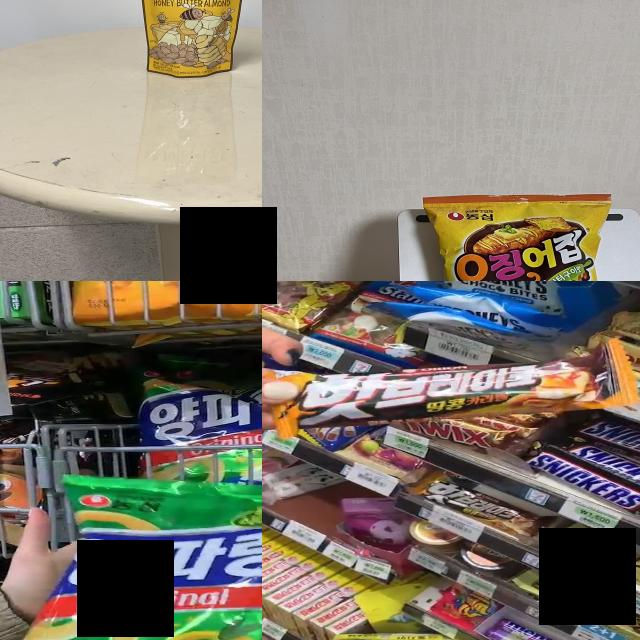honeyAmond: (144, 0, 240, 72)
hotBreak: (288, 367, 622, 417)
onionRing: (22, 484, 262, 640), (142, 383, 262, 484)
ozingZip: (444, 198, 595, 281)
